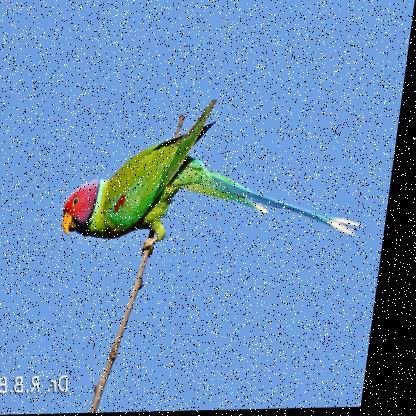Burung: (66, 95, 383, 242)
